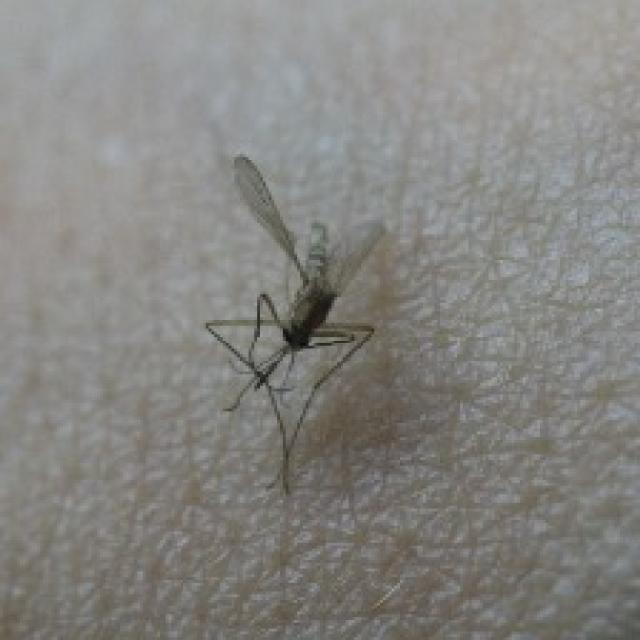culex: (203, 152, 386, 494)
